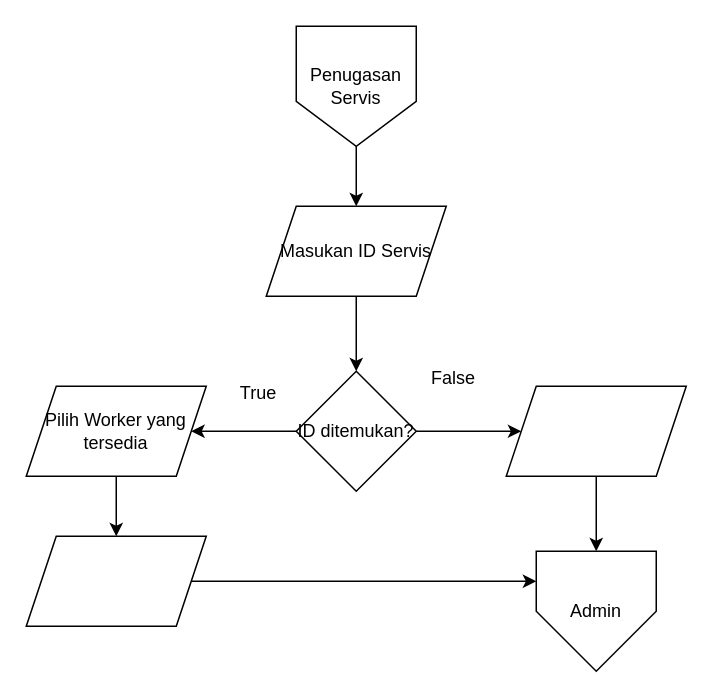
The diagram is 713 pixels wide and 698 high, and some of its shapes have lost their labels. Each missing label, with the centre of its shape:
Berhasil, servis ditugaskan: (115,580)
ID tidak ditemukan: (595,430)
